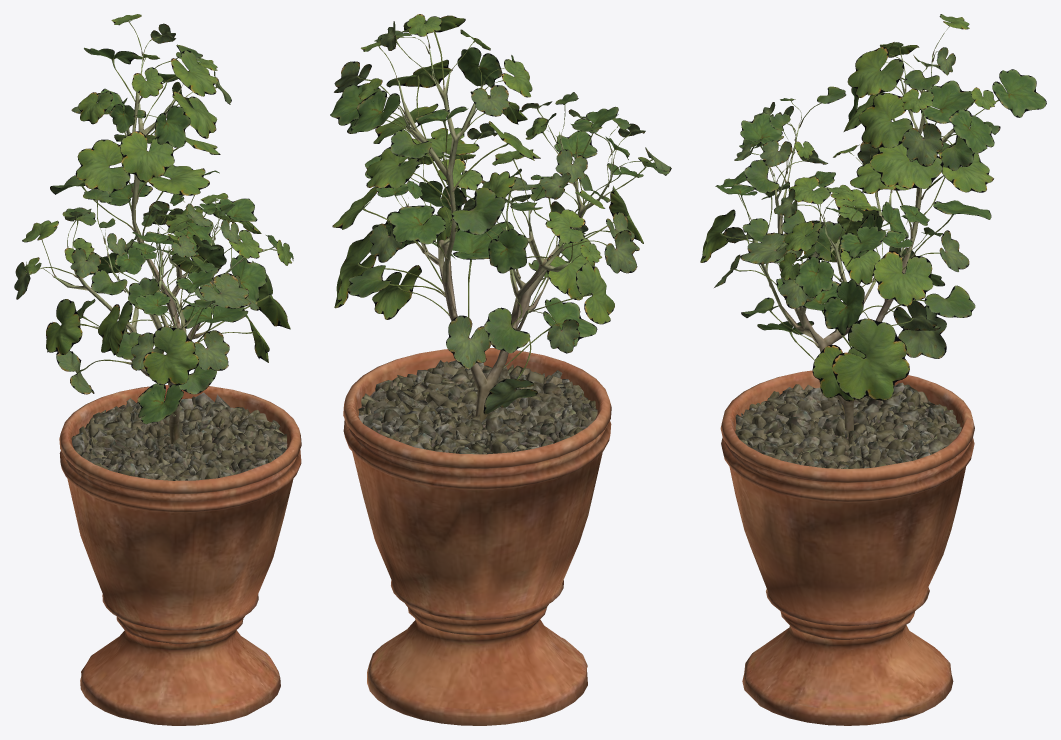
The model's file is potted_plant_01.glb.
The picture shows the model from 3 angles, left to right: view 1: azimuth 30°, elevation 25°; view 2: azimuth 150°, elevation 25°; view 3: azimuth 270°, elevation 25°; orthographic projection. The views are drawn at different scales.
Parts seen in each view (by area): view 1: potted_plant_01_stem, potted_plant_01_leaves; view 2: potted_plant_01_stem, potted_plant_01_leaves; view 3: potted_plant_01_stem, potted_plant_01_leaves.
Part boxes in pixels (bbox=[...]): potted_plant_01_stem: bbox=[54, 54, 301, 725]; potted_plant_01_leaves: bbox=[14, 14, 293, 424]; potted_plant_01_stem: bbox=[343, 49, 612, 725]; potted_plant_01_leaves: bbox=[330, 14, 671, 414]; potted_plant_01_stem: bbox=[720, 55, 974, 725]; potted_plant_01_leaves: bbox=[700, 14, 1046, 401].
Size of the model in its own units: 0.5874 by 1.34 by 0.6336.
Materials: 2 (2 with a texture image).
